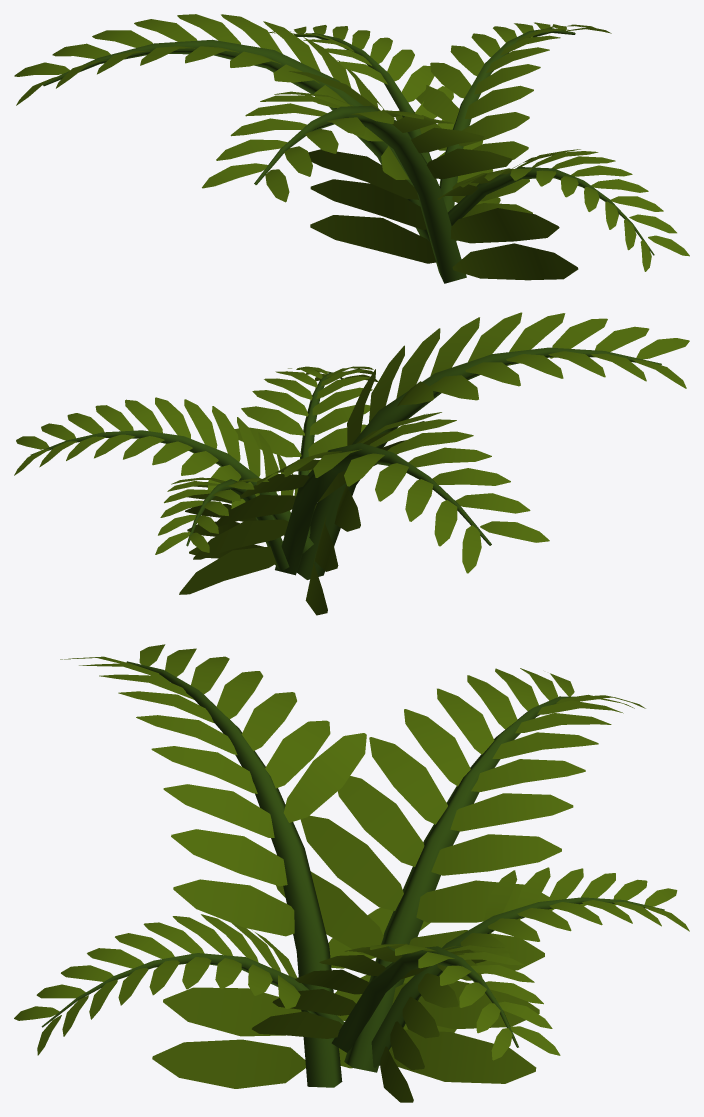
Rendered from SM_Fan_Plant_B.fbx.
3 renders of one model, top to bottom at view 1: azimuth 30°, elevation 25°; view 2: azimuth 150°, elevation 25°; view 3: azimuth 270°, elevation 25°, orthographic. The views are drawn at different scales.
Parts seen in each view (by area): view 1: SM_Fan_Plant_B.001; view 2: SM_Fan_Plant_B.001; view 3: SM_Fan_Plant_B.001.
Part boxes in pixels (<box>): SM_Fan_Plant_B.001: <box>14,14,689,283</box>; SM_Fan_Plant_B.001: <box>14,312,689,615</box>; SM_Fan_Plant_B.001: <box>14,644,689,1102</box>.
Size of the model in its own units: 341 by 297 by 142.
